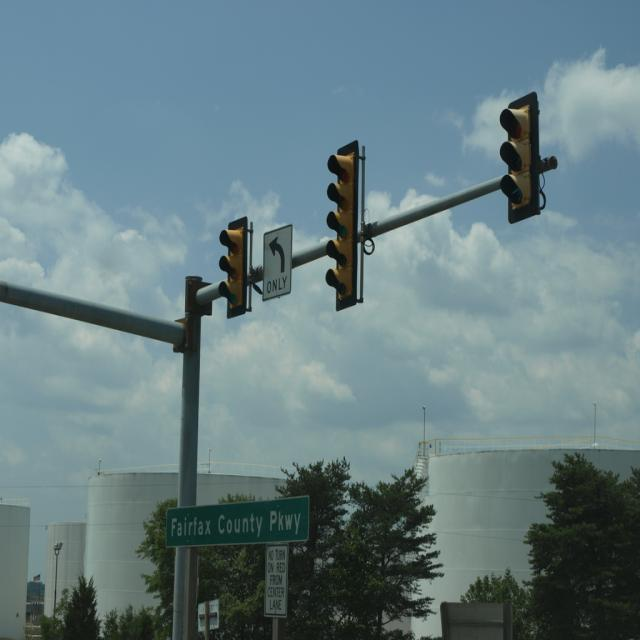off traffic light: (325, 140, 357, 312), (499, 91, 537, 224), (217, 217, 247, 318)
